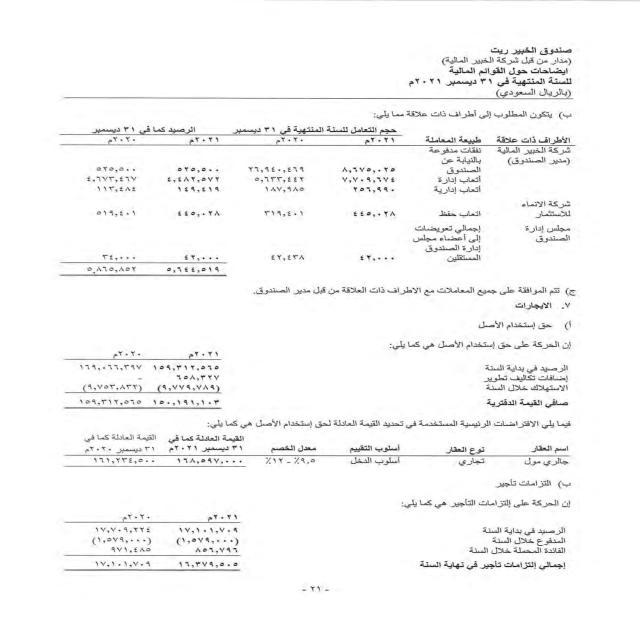notes: (444, 66, 572, 78)
table: (41, 123, 580, 283), (43, 428, 578, 486), (48, 497, 257, 583), (36, 340, 268, 417)
